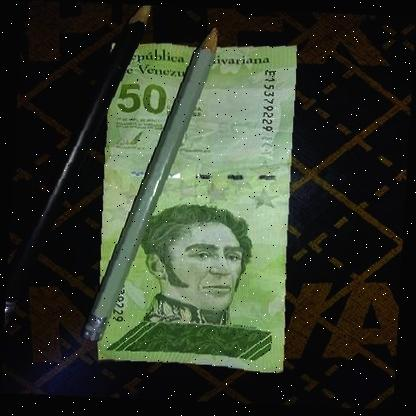fifty-front-vef: (96, 42, 296, 376)
